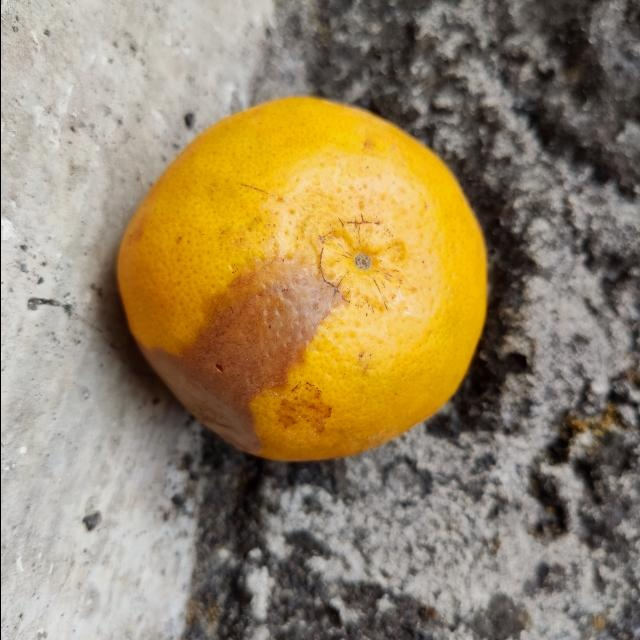agrume: (115, 94, 489, 462)
